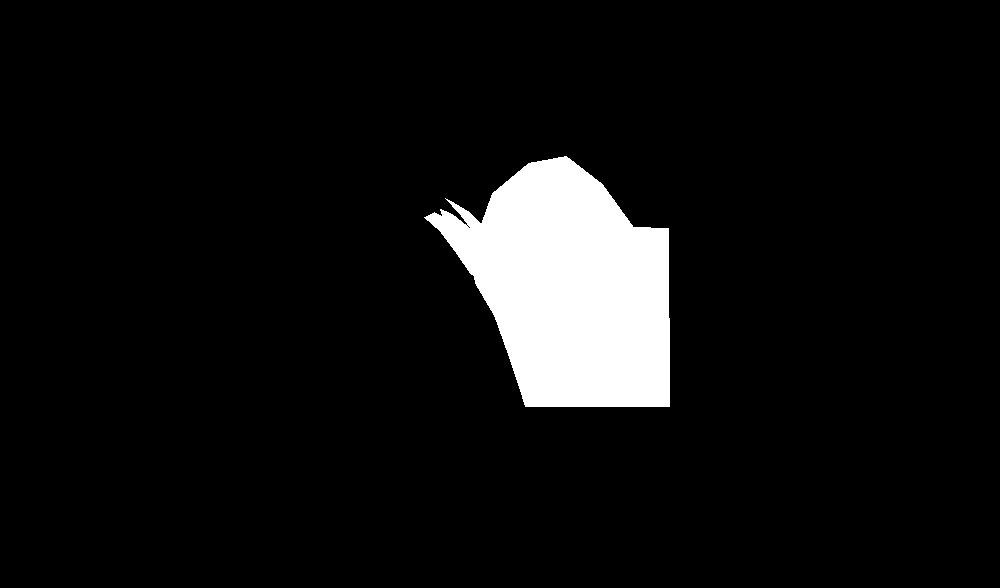Fire: (431, 199, 564, 349)
